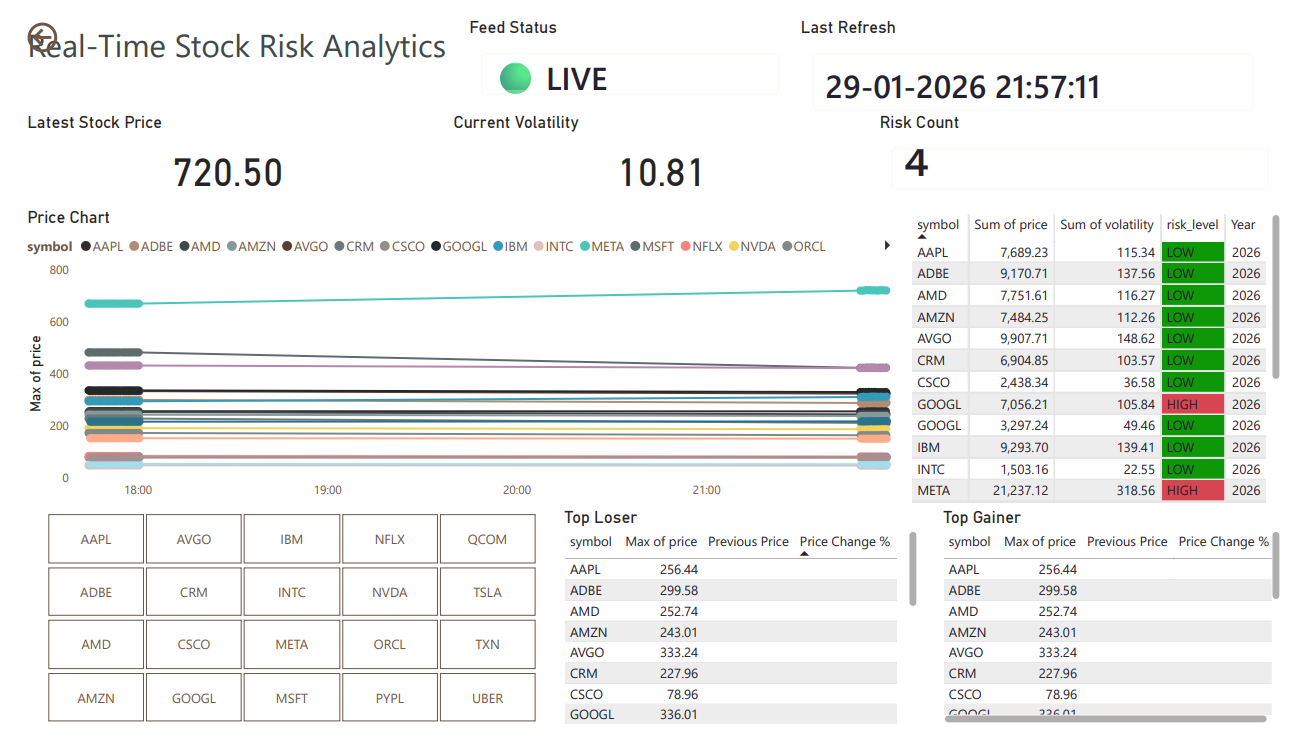

Layout of this report page (visuals, bound fields, positions):
{"tool":"powerbi","page":{"name":"Page 1","canvas":[1280,720],"ordinal":0},"visuals":[{"type":"lineChart","title":"Price Chart","fields":{"Y":["Max(stock_analytics stock_prices.price)"],"Series":["stock_analytics stock_prices.symbol"],"Category":["stock_analytics stock_prices.timestamp"]},"box":[0,192,896,304],"z":0},{"type":"tableEx","fields":{"Values":["stock_analytics stock_prices.symbol","Sum(stock_analytics stock_prices.price)","Sum(stock_analytics stock_prices.volatility)","stock_analytics stock_prices.risk_level","stock_analytics stock_prices.timestamp.Variation.Date Hierarchy.Year"]},"box":[896,192,384,304],"z":1000},{"type":"card","title":"Latest Stock Price","fields":{"Values":["Max(stock_analytics stock_prices.price)"]},"box":[0,96,416,96],"z":2000},{"type":"card","title":"Current Volatility","fields":{"Values":["Max(stock_analytics stock_prices.volatility)"]},"box":[432,96,432,96],"z":3000},{"type":"slicer","fields":{"Values":["stock_analytics stock_prices.symbol"]},"box":[0,496,544,224],"z":4000},{"type":"tableEx","title":"Top Gainer","fields":{"Values":["stock_analytics stock_prices.symbol","Max(stock_analytics stock_prices.price)","stock_analytics stock_prices.Previous Price","stock_analytics stock_prices.Price Change %"]},"box":[928,496,352,224],"z":5000},{"type":"cardVisual","title":"Last Refresh","fields":{"Data":["stock_analytics stock_prices.Last Updated"]},"box":[784,0,480,112],"z":6000},{"type":"cardVisual","title":"Feed Status","fields":{"Data":["stock_analytics stock_prices.Data Status"]},"box":[448,0,336,96],"z":7000},{"type":"tableEx","title":"Top Loser","fields":{"Values":["stock_analytics stock_prices.symbol","Max(stock_analytics stock_prices.price)","stock_analytics stock_prices.Previous Price","stock_analytics stock_prices.Price Change %"]},"box":[544,496,368,224],"z":8000},{"type":"cardVisual","title":"Risk Count","fields":{"Data":["stock_analytics stock_prices.High Risk Count"]},"box":[864,96,416,96],"z":9000},{"type":"textbox","box":[0,0,448,128],"z":10000},{"type":"actionButton","box":[0,0,100,40],"z":10001}]}

Visuals, with their boxes in screenshot pixels (x1, y1, x2, y2), scaled from the page's 1280x720 canvas onto the 1307x747 screenshot:
"Price Chart" lineChart: detection(0, 199, 915, 515)
tableEx - stock_analytics stock_prices.symbol x Sum(stock_analytics stock_prices.price): detection(915, 199, 1306, 515)
"Latest Stock Price" card: detection(0, 100, 425, 199)
"Current Volatility" card: detection(441, 100, 882, 199)
slicer - stock_analytics stock_prices.symbol: detection(0, 515, 555, 746)
"Top Gainer" tableEx: detection(948, 515, 1306, 746)
"Last Refresh" cardVisual: detection(801, 0, 1291, 116)
"Feed Status" cardVisual: detection(457, 0, 801, 100)
"Top Loser" tableEx: detection(555, 515, 931, 746)
"Risk Count" cardVisual: detection(882, 100, 1306, 199)
textbox: detection(0, 0, 457, 133)
actionButton: detection(0, 0, 102, 42)
